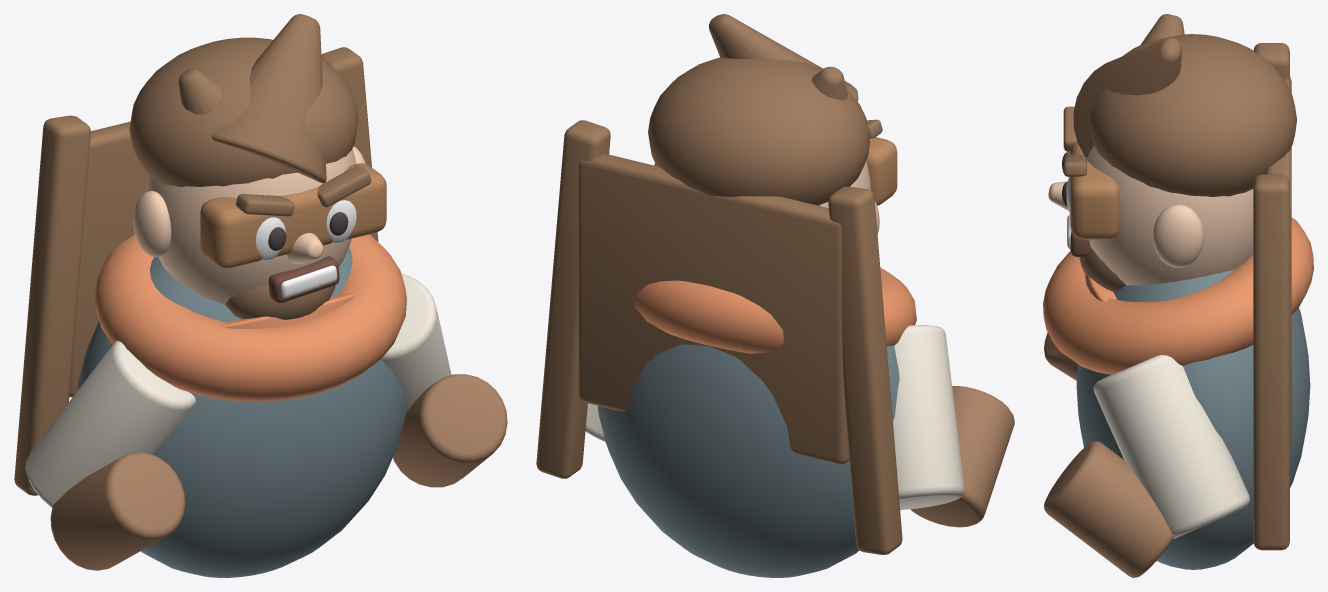
Rendered from opponent_rookie.glb.
3 renders of one model, left to right at view 1: azimuth 30°, elevation 25°; view 2: azimuth 150°, elevation 25°; view 3: azimuth 270°, elevation 25°, orthographic. The views are drawn at different scales.
Visible parts, largest first — view 1: Sphere, Torus, Sphere.009, Cube, Cylinder, Cylinder.001, Cone.002, Cylinder.003, Sphere.001, Cube.002, Cube.003, Cylinder.002 (+12 smaller); view 2: Cube.002, Sphere, Sphere.009, Cube, Cube.001, Cylinder, Torus, Cylinder.001, Cone.002, Cube.003, Cone.003; view 3: Sphere.009, Torus, Cylinder.002, Sphere, Cube.001, Sphere.001, Cylinder.003, Cone.002, Cube.003, Sphere.003, Cube.002, Sphere.004 (+7 smaller).
Part boxes in pixels (bbox=[...]): Sphere: bbox=[77, 248, 406, 577]; Torus: bbox=[95, 234, 406, 401]; Sphere.009: bbox=[129, 37, 358, 187]; Cube: bbox=[14, 115, 90, 495]; Cylinder: bbox=[25, 340, 195, 507]; Cylinder.001: bbox=[50, 452, 185, 570]; Cone.002: bbox=[211, 14, 326, 183]; Cylinder.003: bbox=[393, 374, 507, 487]; Sphere.001: bbox=[145, 149, 356, 304]; Cube.002: bbox=[69, 121, 147, 397]; Cube.003: bbox=[200, 163, 386, 268]; Cylinder.002: bbox=[381, 274, 451, 411]; Cube.002: bbox=[578, 153, 849, 464]; Sphere: bbox=[597, 344, 899, 577]; Sphere.009: bbox=[648, 57, 870, 205]; Cube: bbox=[828, 186, 902, 554]; Cube.001: bbox=[536, 120, 610, 478]; Cylinder: bbox=[893, 325, 964, 509]; Torus: bbox=[635, 267, 916, 353]; Cylinder.001: bbox=[910, 386, 1014, 527]; Cone.002: bbox=[709, 14, 858, 100]; Cube.003: bbox=[866, 137, 897, 205]; Cone.003: bbox=[812, 66, 847, 100]; Sphere.009: bbox=[1090, 34, 1296, 196]; Torus: bbox=[1043, 217, 1313, 374]; Cylinder.002: bbox=[1093, 355, 1249, 538]; Sphere: bbox=[1076, 269, 1310, 569]; Cube.001: bbox=[1253, 174, 1289, 550]; Sphere.001: bbox=[1082, 146, 1253, 285]; Cylinder.003: bbox=[1044, 441, 1173, 577]; Cone.002: bbox=[1073, 37, 1181, 157]; Cube.003: bbox=[1070, 141, 1119, 239]; Sphere.003: bbox=[1152, 204, 1204, 267]; Cube.002: bbox=[1265, 77, 1291, 443]; Sphere.004: bbox=[1079, 246, 1125, 291].
Size of the model in its own units: 2.85 by 3.57 by 1.63.
